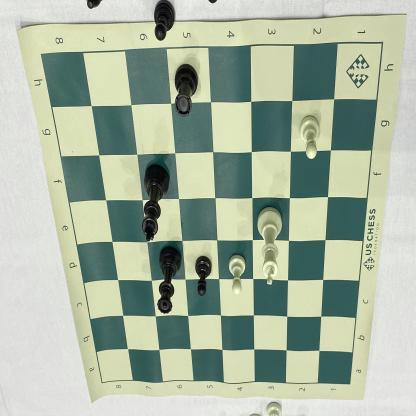black-king: (140, 162, 172, 244)
black-pawn: (192, 254, 216, 300)
black-queen: (155, 240, 184, 317)
black-rook: (172, 62, 199, 121)
white-king: (255, 203, 288, 288)
white-pawn: (296, 113, 324, 162), (226, 253, 249, 296)
